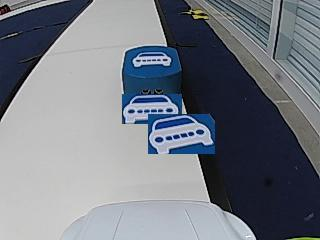safety: (132, 51, 173, 67)
